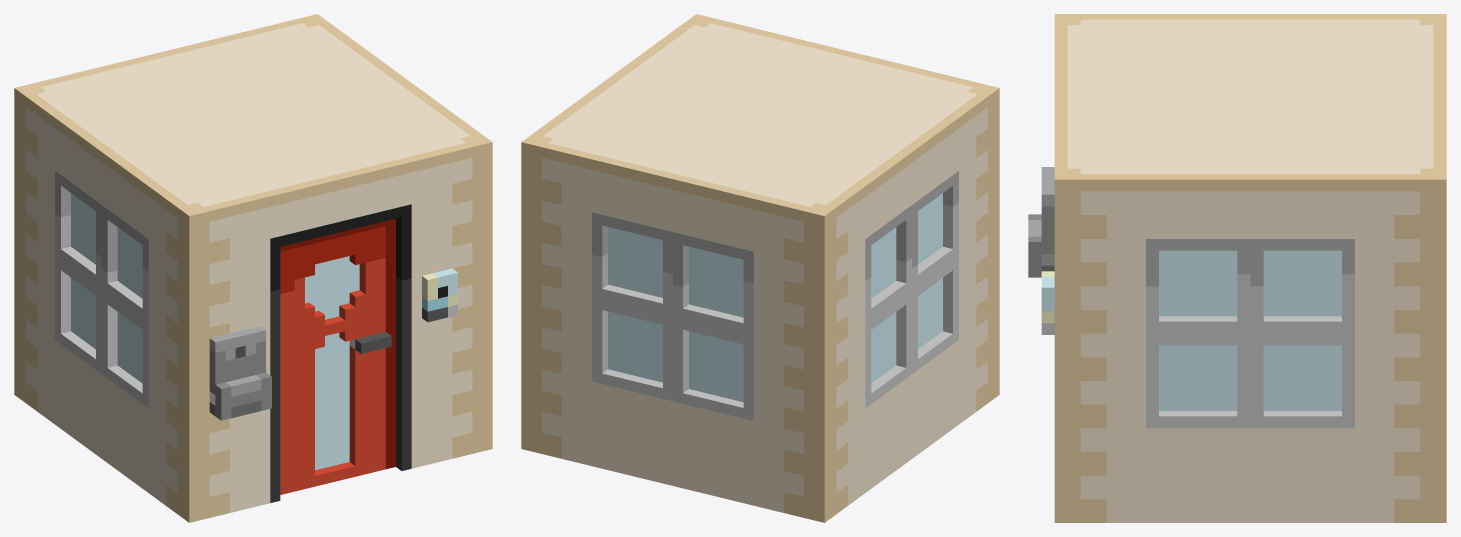
File: hose_base_A.obj
3 renders of one model, left to right at view 1: azimuth 30°, elevation 25°; view 2: azimuth 150°, elevation 25°; view 3: azimuth 270°, elevation 25°, orthographic. The views are drawn at different scales.
Size of the model in its own units: 3 by 2.9 by 3.2.
Materials: 1 (1 with a texture image).
